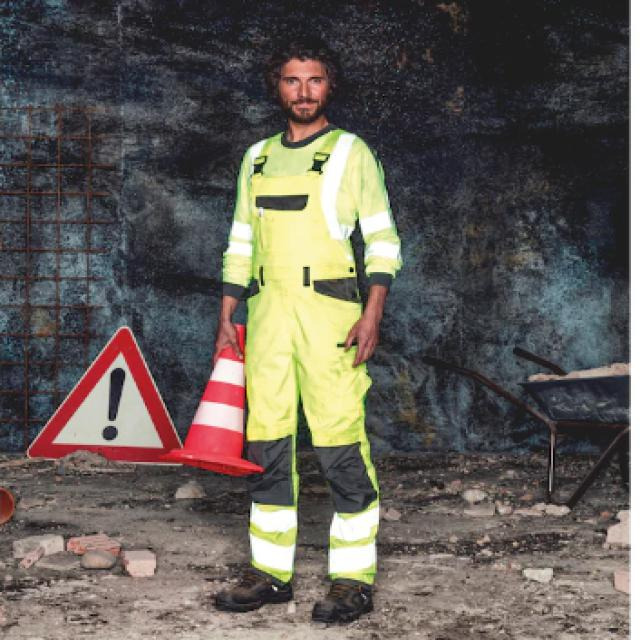shoes: (210, 560, 382, 628)
vest: (234, 125, 372, 306)
